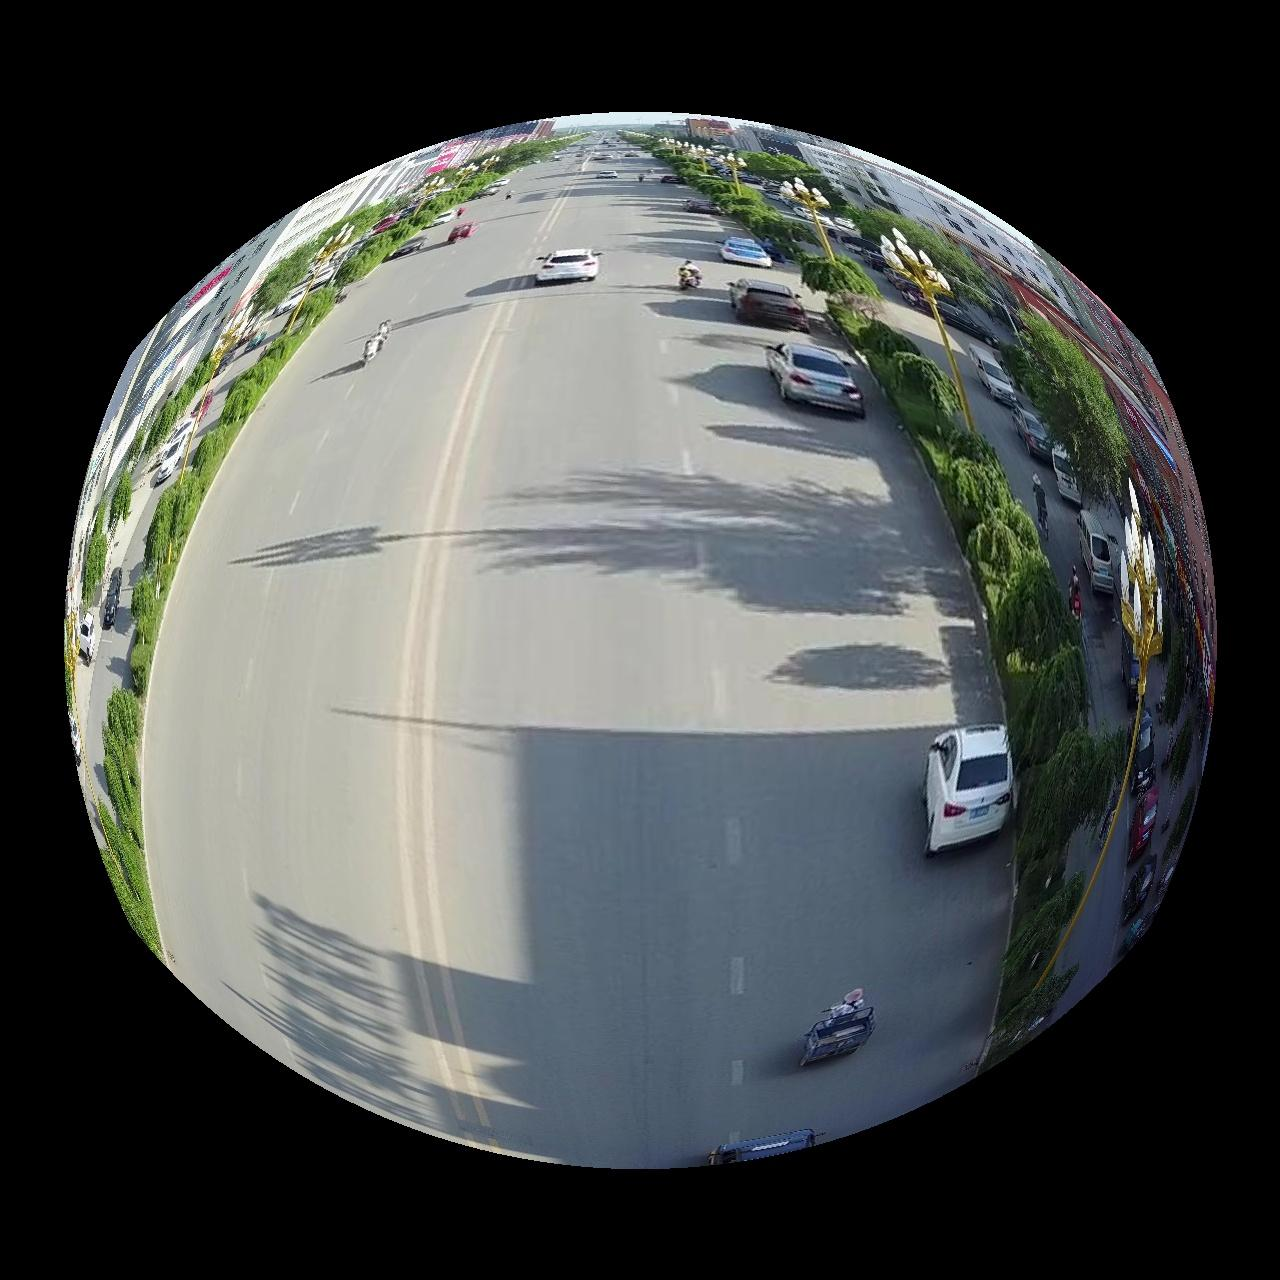cars: (926, 726, 1015, 855), (768, 343, 866, 417), (731, 277, 810, 332), (971, 343, 1019, 406), (1080, 510, 1115, 593), (536, 247, 599, 282), (1015, 404, 1054, 461), (1053, 443, 1084, 505), (722, 236, 772, 266)
trees: (833, 298, 1128, 1067), (96, 278, 340, 956), (1007, 309, 1133, 502), (743, 151, 840, 198)
